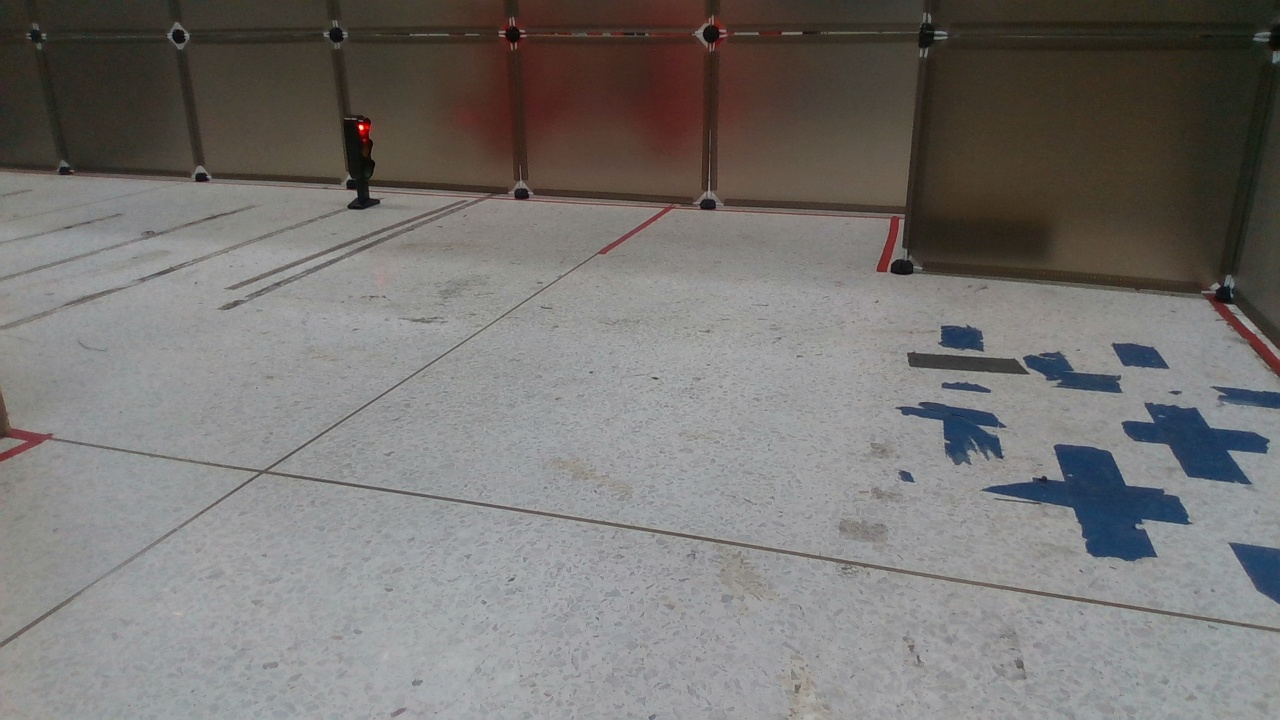Red traffic light: (341, 115, 383, 210)
